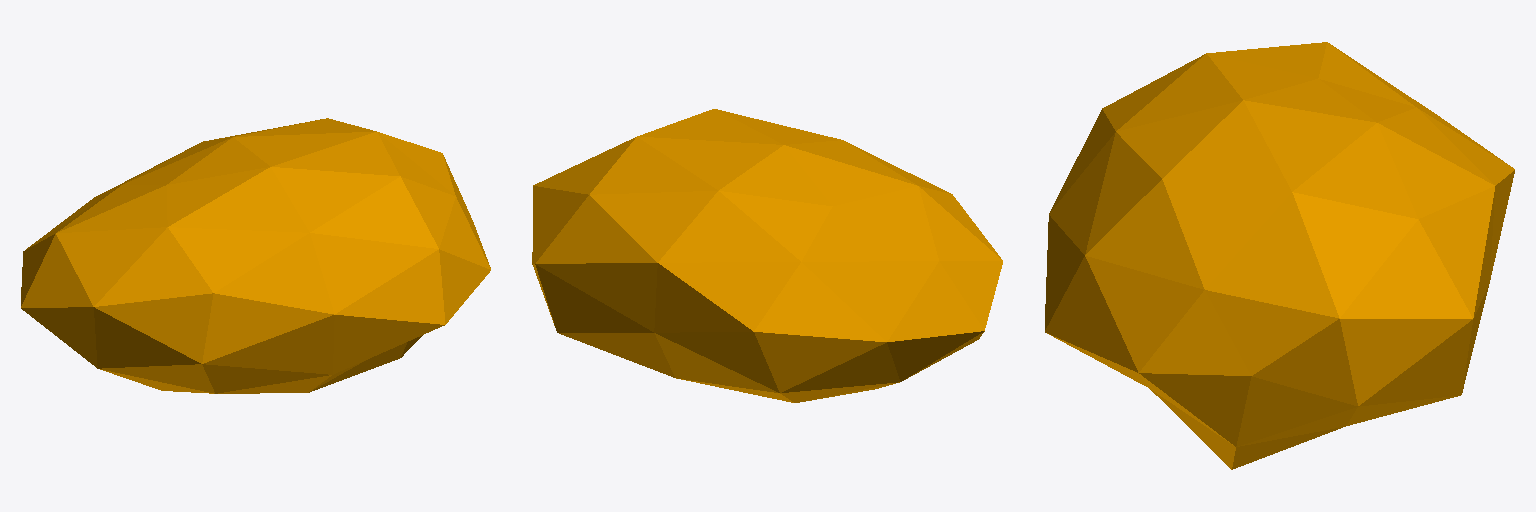
The robot description file, URDF, robot "train0543":
<?xml version="1.0"?>
<robot name="train0543">
  <link name="link">
    <contact>
      <lateral_friction value="0.6"/>
    </contact>
    <inertial>
      <mass value = "0.5212759166588277"/>
      <inertia ixx="0.00022939528549896317" ixy="-2.687212025164268e-20" ixz="6.419450949003528e-20" iyy="0.0003836503341074715" iyz="-1.66706671931487e-20" izz="0.00046806093104656245" />
    </inertial>
    <visual name="visual">
      <geometry>
        <mesh filename="train0543.obj"/>
      </geometry>
    </visual>
    <collision name="collision">
      <geometry>
        <mesh filename="train0543.obj"/>
      </geometry>
    </collision>
  </link>
</robot>

--- What the picture shows (computed from the rendered views, not written in the file) ---
Views: 3 orthographic renders of the robot side by side, from view 1: azimuth 30°, elevation 25°; view 2: azimuth 150°, elevation 25°; view 3: azimuth 270°, elevation 25°.
Model train0543 with 1 links and 0 joints (none), rooted at link, posed all joints at 0.
Visible links, largest first — view 1: link; view 2: link; view 3: link.
Link boxes in pixels (x1,y1,x2,y2): link: (21, 118, 490, 393); link: (532, 109, 1002, 402); link: (1045, 42, 1514, 469).
Bounding box of the posed robot: 0.1116 × 0.08 × 0.0549 m (x, y, z).
Meshes: 1 distinct files referenced, 1 mesh visuals loaded (1 OBJ).
